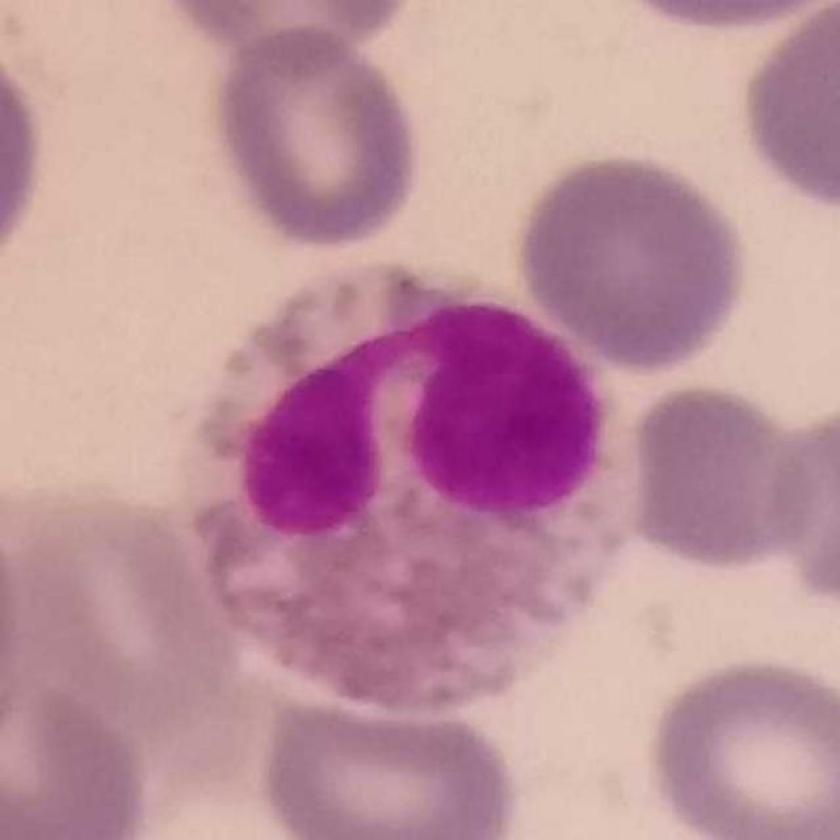eosinophil: (177, 256, 655, 711)
